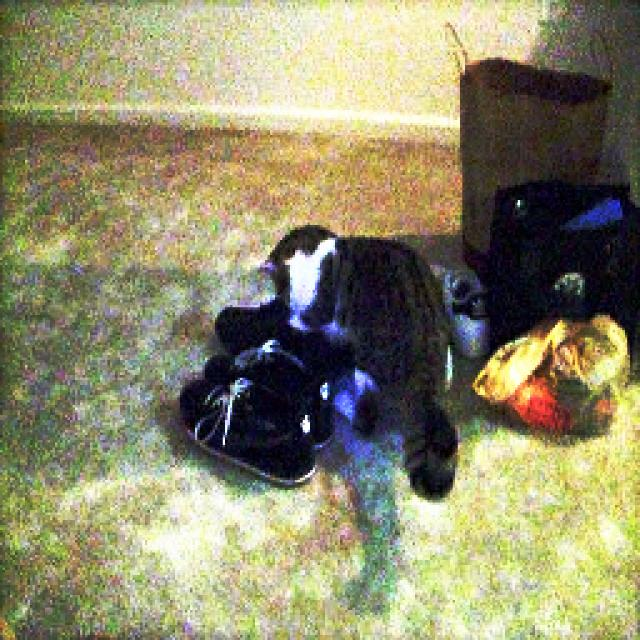cat: (260, 223, 462, 503)
